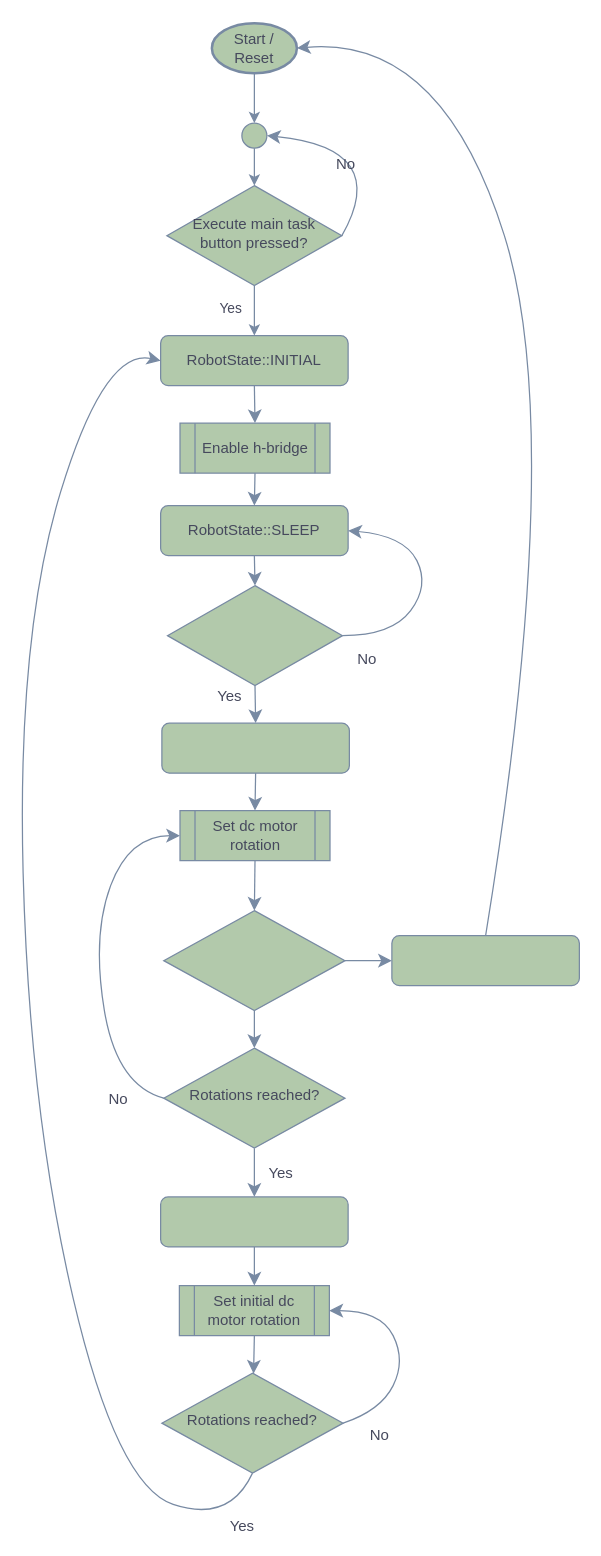
Some shapes in this 601 by 1556 pixel diagram are drawn without their labels. The centre of each missing label's shape, as x and y in pixels:
"Mechanical button pressed?" goes at (254,635).
"RobotState::BACKWARD" goes at (253,1221).
"RobotState::EMERGENCY" goes at (485,960).
"RobotState::FOWARD" goes at (255,747).
"Ultrasonic below limit?" goes at (253,960).
